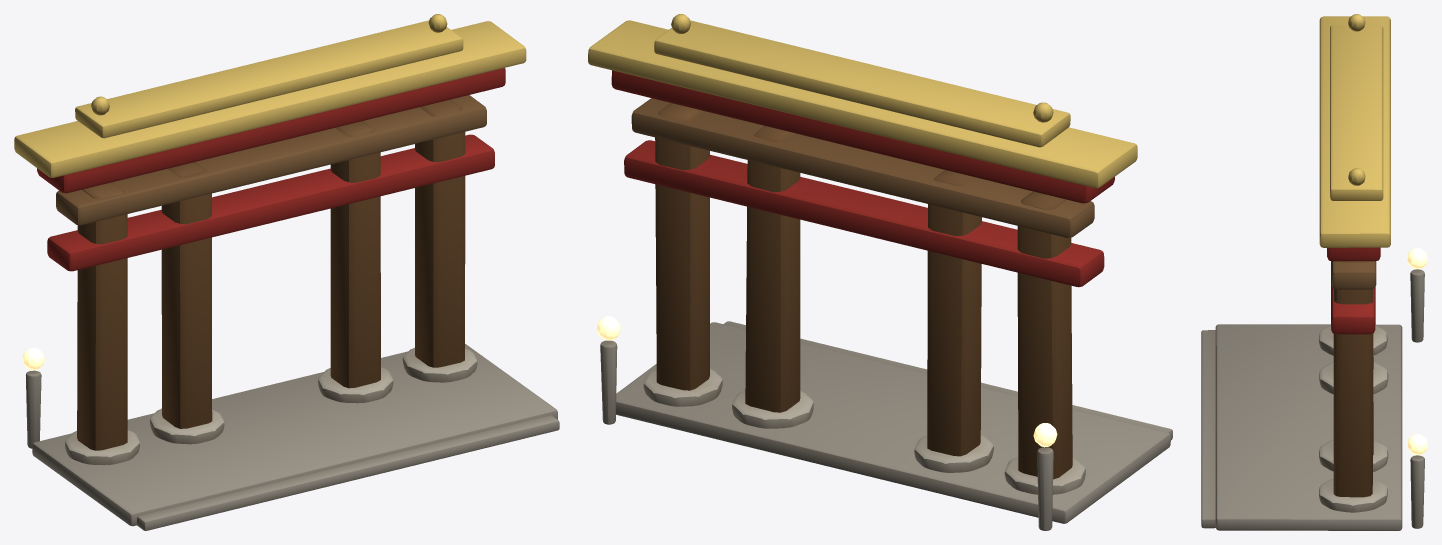
3 renders of one model, left to right at view 1: azimuth 30°, elevation 25°; view 2: azimuth 150°, elevation 25°; view 3: azimuth 270°, elevation 25°, orthographic. The views are drawn at different scales.
Visible parts, largest first — view 1: gate_8e727ab3; view 2: gate_8e727ab3; view 3: gate_8e727ab3.
Boxes of the visible parts, <box> form: gate_8e727ab3: <box>14,14,559,530</box>; gate_8e727ab3: <box>588,14,1172,530</box>; gate_8e727ab3: <box>1201,14,1427,530</box>.
Size of the model in its own units: 5.8 by 4.25 by 2.54.
